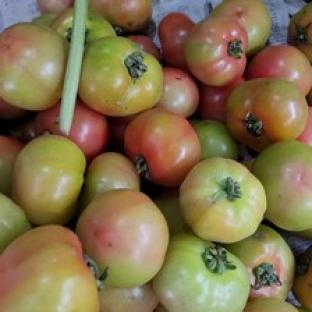Tomato: (76, 189, 169, 288), (0, 225, 98, 311), (180, 156, 266, 243), (154, 233, 249, 311), (12, 134, 86, 225), (78, 37, 162, 116), (226, 77, 307, 151), (0, 23, 68, 111), (124, 108, 200, 186), (251, 140, 311, 231), (225, 225, 295, 300), (35, 98, 110, 162), (184, 16, 247, 86), (80, 151, 140, 208), (244, 45, 311, 96), (195, 77, 245, 122), (156, 66, 199, 116), (158, 12, 194, 71), (191, 119, 239, 160), (0, 193, 30, 254), (152, 187, 189, 235), (99, 282, 158, 311), (287, 3, 311, 62), (0, 136, 23, 196), (293, 246, 311, 310), (108, 115, 136, 153), (85, 10, 115, 44), (127, 34, 161, 61), (243, 299, 298, 311), (0, 98, 29, 119), (297, 106, 311, 146), (33, 13, 57, 26)
